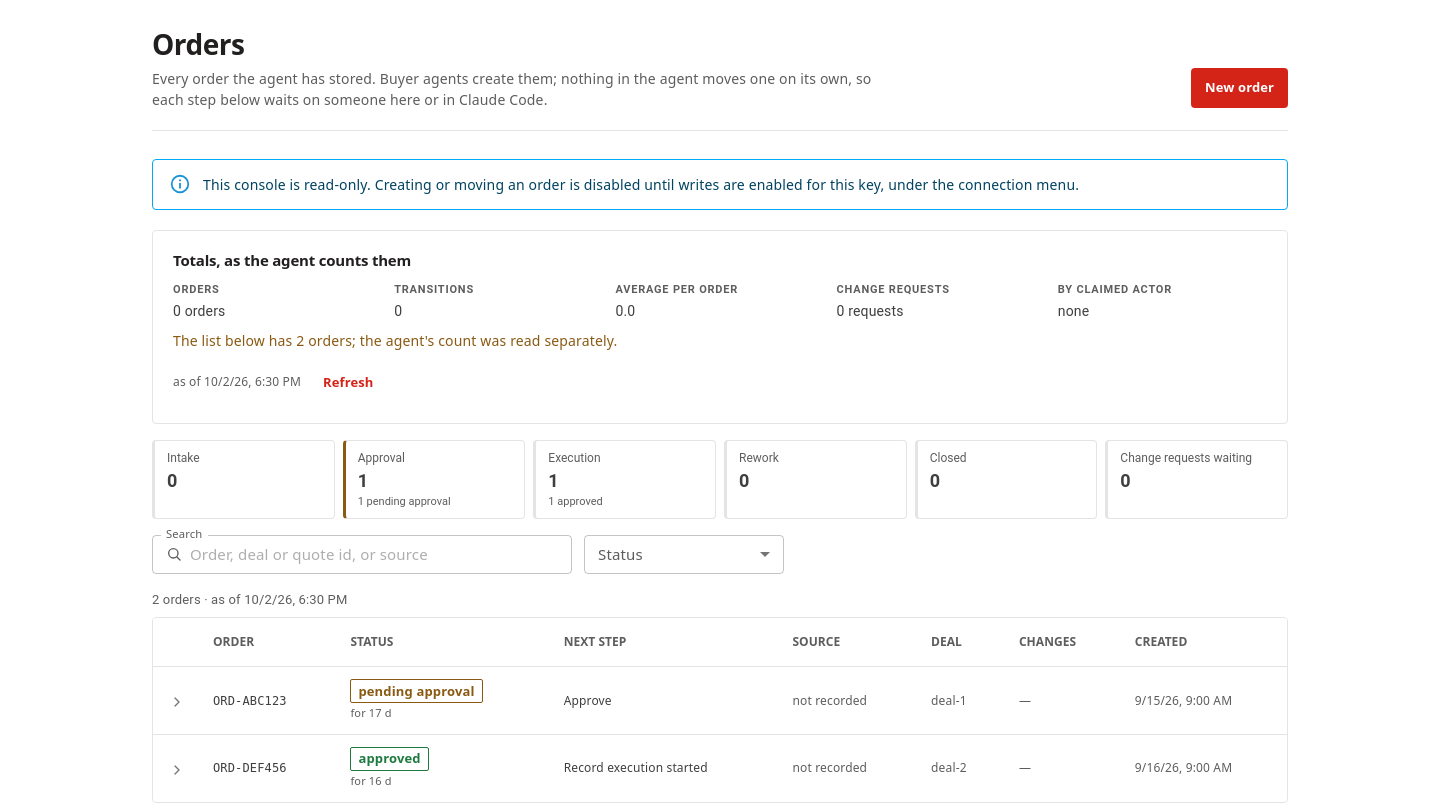
Test: the orders screen › filters by status without asking the agent again
Expected: the text "ORD-ABC123" is shown, [197,667,334,734]
Click the dropdown named "Status".
click(684, 554)  # box [584,535,784,574]
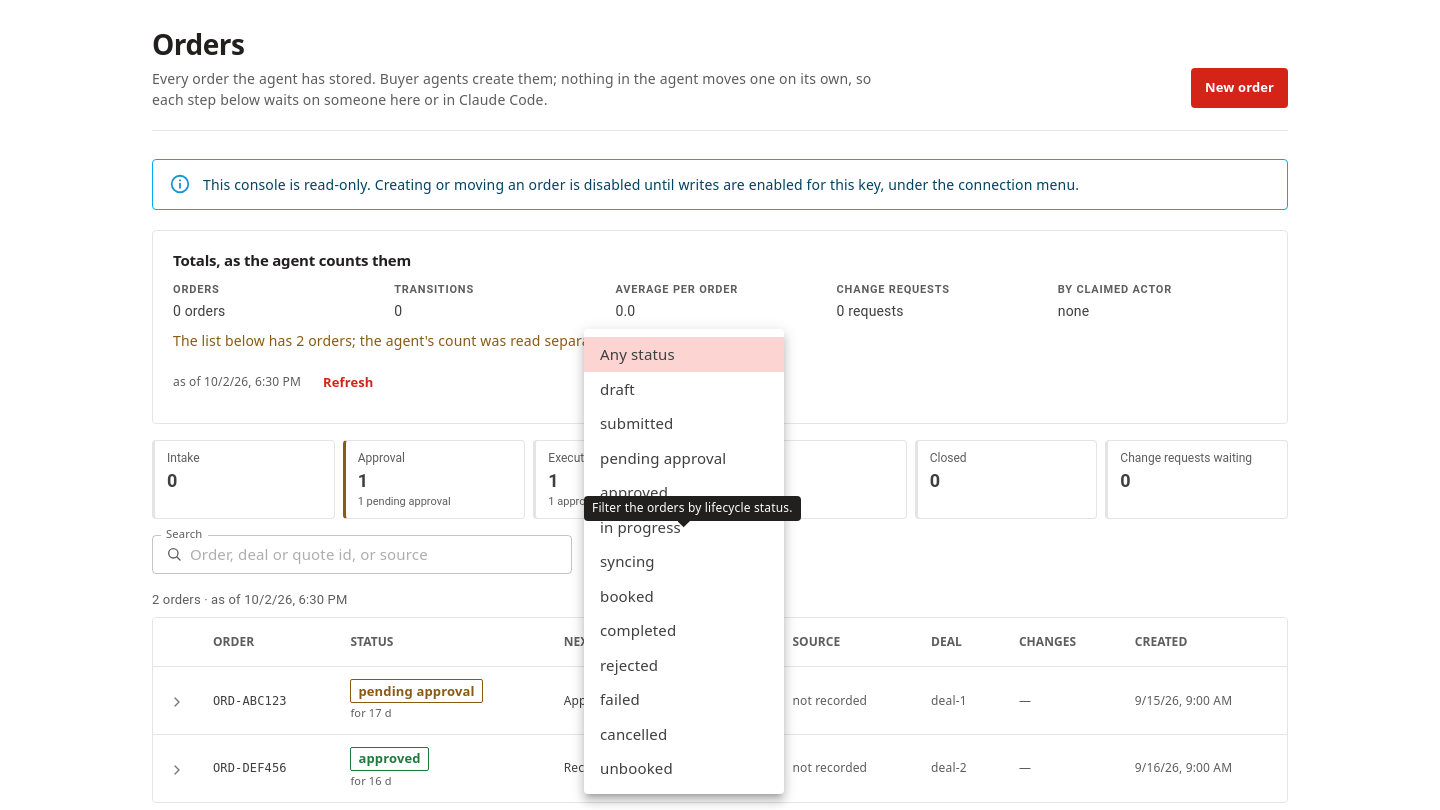
Click the option "approved".
click(634, 492)  # box [600,482,668,502]
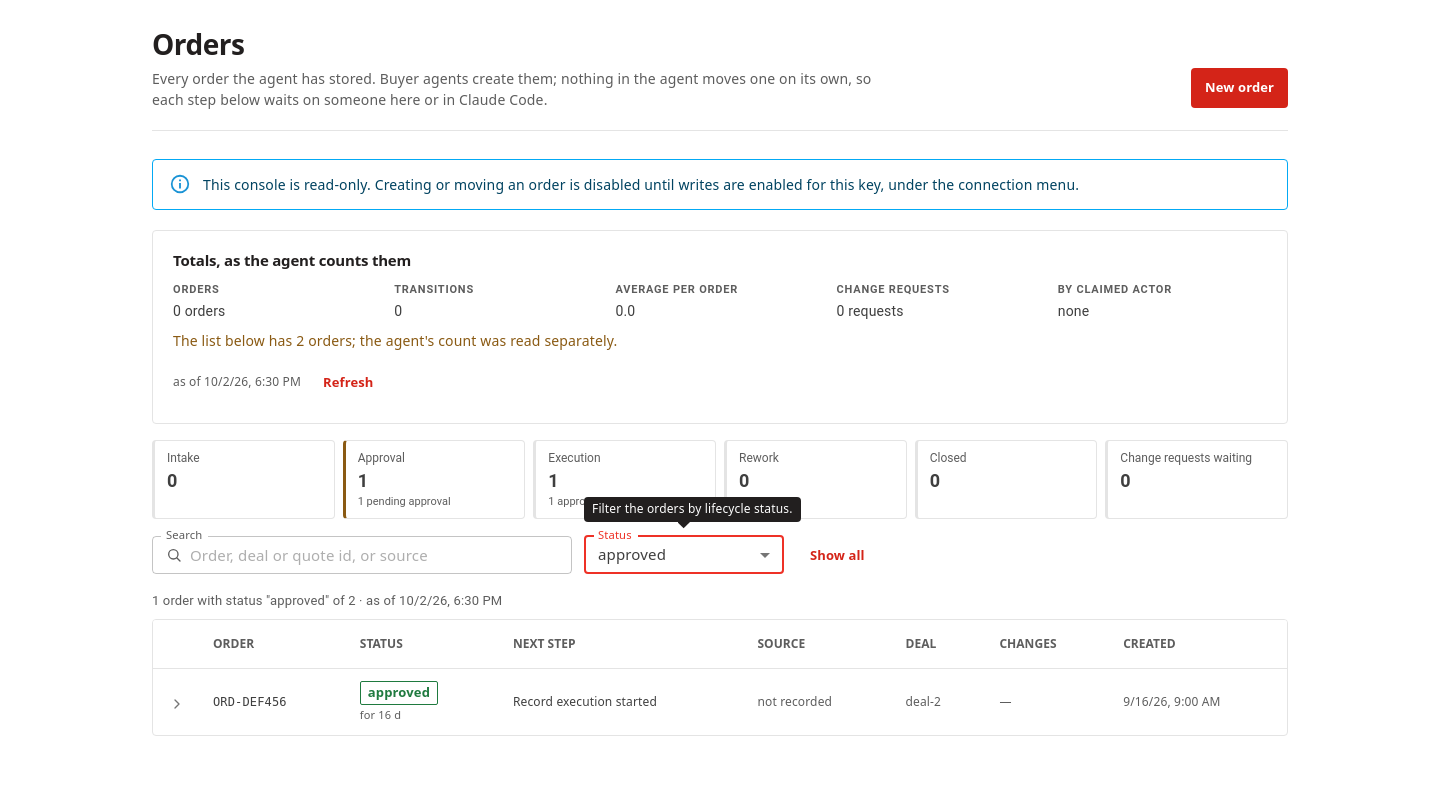
Expected: the text "ORD-DEF456" is shown, [197,668,344,735]
Result: the text "ORD-ABC123" is gone
